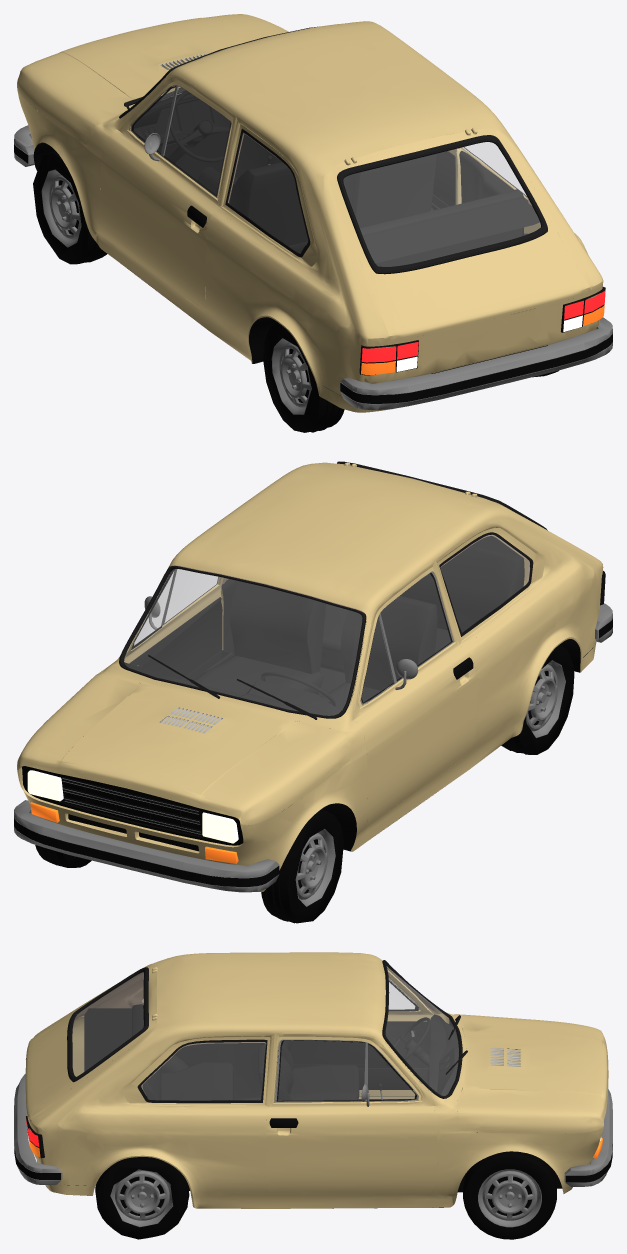
File: fiat-147.glb
3 views of the same model, one above another, from view 1: azimuth 30°, elevation 25°; view 2: azimuth 150°, elevation 25°; view 3: azimuth 270°, elevation 25° (orthographic). The views are drawn at different scales.
Visible parts, largest first — view 1: Plano.011_15, Cubo.010_26, Plano.001_16, Plano.006_5, Plano.007_6, Cilindro.002_9, Cubo.001_3, Plano.008_10, Plano.010_12, Plano_4, Plano.013_17, Cubo.007_18 (+2 smaller); view 2: Plano.011_15, Plano.007_6, Plano.009_11, Cubo.010_26, Plano.006_5, Cilindro.002_9, Cubo.001_3, Plano.010_12, Plano.004_1, Plano.008_10, Plano.003_0, Cubo.007_18 (+5 smaller); view 3: Plano.011_15, Plano.006_5, Plano.007_6, Cubo.010_26, Plano.010_12, Cilindro.006_29, Cilindro.002_9, Plano.008_10, Plano.009_11, Plano.015_27, Plano.001_16, Cubo.001_3 (+4 smaller).
Boxes of the visible parts, <box> form: Plano.011_15: <box>17,21,603,412</box>; Cubo.010_26: <box>229,153,539,274</box>; Plano.001_16: <box>329,128,588,340</box>; Plano.006_5: <box>100,75,467,311</box>; Plano.007_6: <box>17,14,288,144</box>; Cilindro.002_9: <box>33,150,558,432</box>; Cubo.001_3: <box>14,92,612,410</box>; Plano.008_10: <box>228,133,526,253</box>; Plano.010_12: <box>134,87,230,194</box>; Plano_4: <box>359,287,605,375</box>; Plano.013_17: <box>153,94,340,395</box>; Cubo.007_18: <box>133,93,230,147</box>; Plano.011_15: <box>17,461,603,891</box>; Plano.007_6: <box>17,674,350,825</box>; Plano.009_11: <box>124,569,362,715</box>; Cubo.010_26: <box>193,536,524,710</box>; Plano.006_5: <box>111,560,476,825</box>; Cilindro.002_9: <box>261,644,574,923</box>; Cubo.001_3: <box>14,603,612,892</box>; Plano.010_12: <box>134,569,450,701</box>; Plano.004_1: <box>22,766,243,845</box>; Plano.008_10: <box>440,535,529,632</box>; Plano.003_0: <box>119,565,366,718</box>; Cubo.007_18: <box>124,662,340,715</box>; Plano.011_15: <box>28,952,603,1208</box>; Plano.006_5: <box>266,970,437,1195</box>; Plano.007_6: <box>457,1014,608,1133</box>; Cubo.010_26: <box>84,1004,359,1103</box>; Plano.010_12: <box>278,983,414,1100</box>; Cilindro.006_29: <box>463,1151,556,1239</box>; Cilindro.002_9: <box>95,1157,189,1239</box>; Plano.008_10: <box>141,1042,265,1100</box>; Plano.009_11: <box>386,966,458,1095</box>; Plano.015_27: <box>74,967,455,1100</box>; Plano.001_16: <box>25,965,156,1122</box>; Cubo.001_3: <box>14,1074,612,1186</box>.
Bounding box in the file's own units: 1.55 × 1.36 × 3.55.
